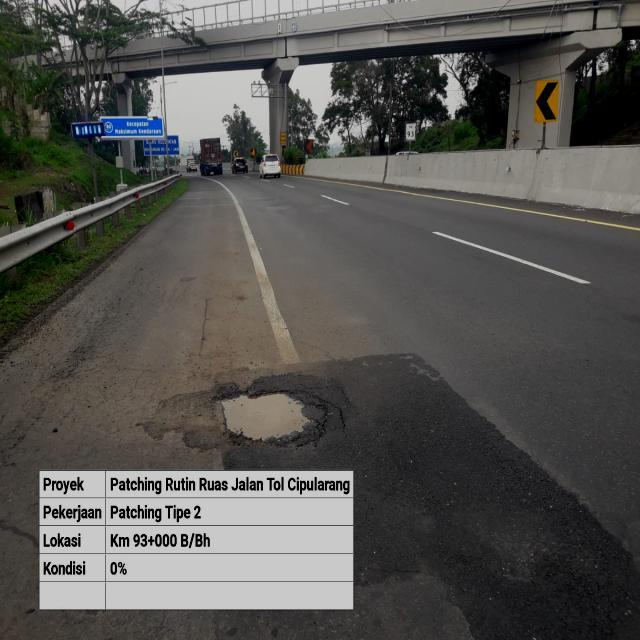Buraco: (206, 384, 332, 452)
